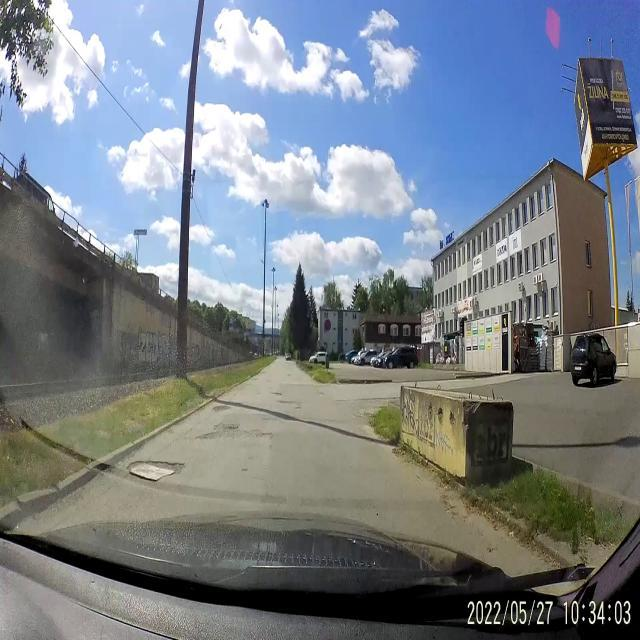Pothole: (125, 452, 185, 483), (198, 422, 278, 441), (212, 400, 232, 418), (276, 397, 296, 407), (268, 388, 284, 398)
